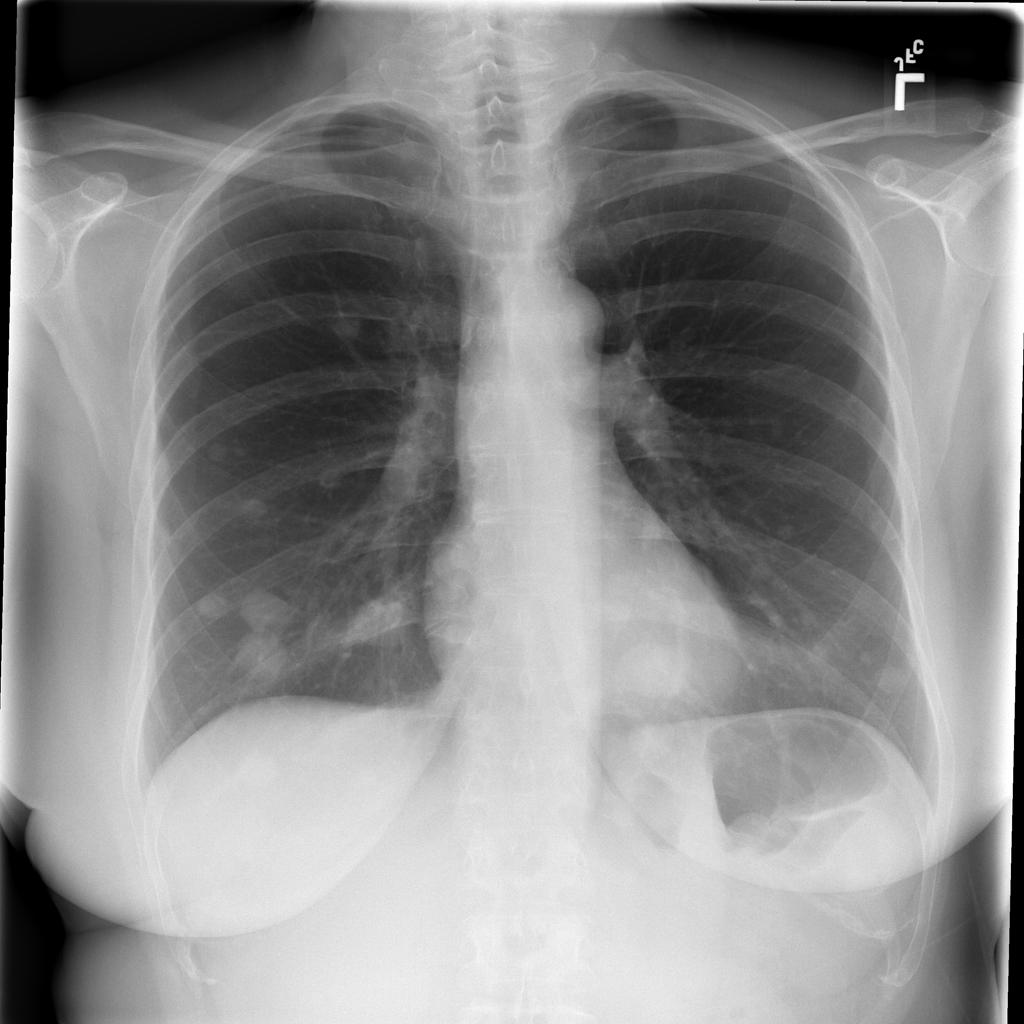nodule: (609, 636, 696, 711), (336, 584, 424, 657), (218, 628, 303, 694), (854, 637, 923, 712), (221, 740, 296, 805), (230, 577, 306, 634), (183, 579, 240, 628), (318, 302, 375, 348), (195, 427, 254, 471), (596, 580, 644, 634), (761, 506, 818, 551), (226, 490, 285, 533), (305, 454, 358, 501)
